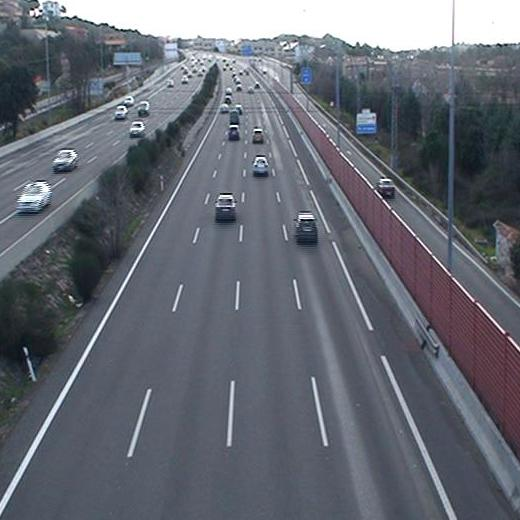car: (293, 212, 319, 240), (213, 192, 237, 218), (252, 154, 268, 171), (227, 123, 241, 142), (251, 127, 265, 145), (217, 103, 232, 113)
van: (228, 108, 243, 127)
